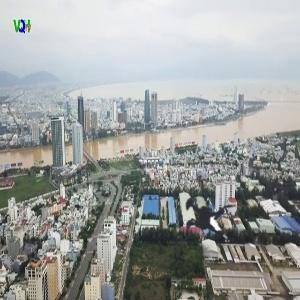drone: (147, 165, 260, 278)
